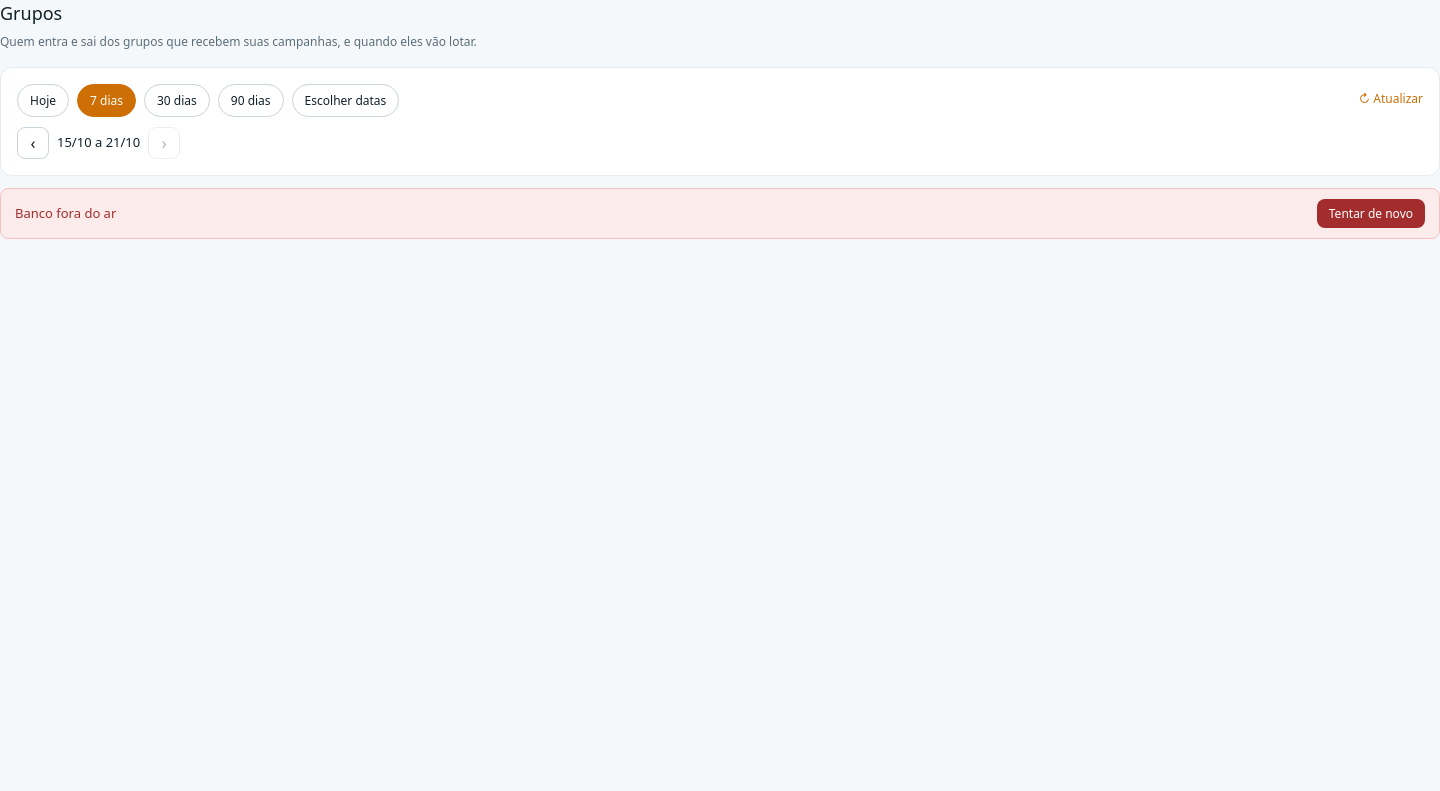
Test: PageGrupos › erro do servidor mostra o motivo com tentar de novo
Expected: the text "Banco fora do ar" is shown, [15,204,116,222]
Step 1. Click the button "Tentar de novo" → point(1371, 214), box [1317,199,1425,228]
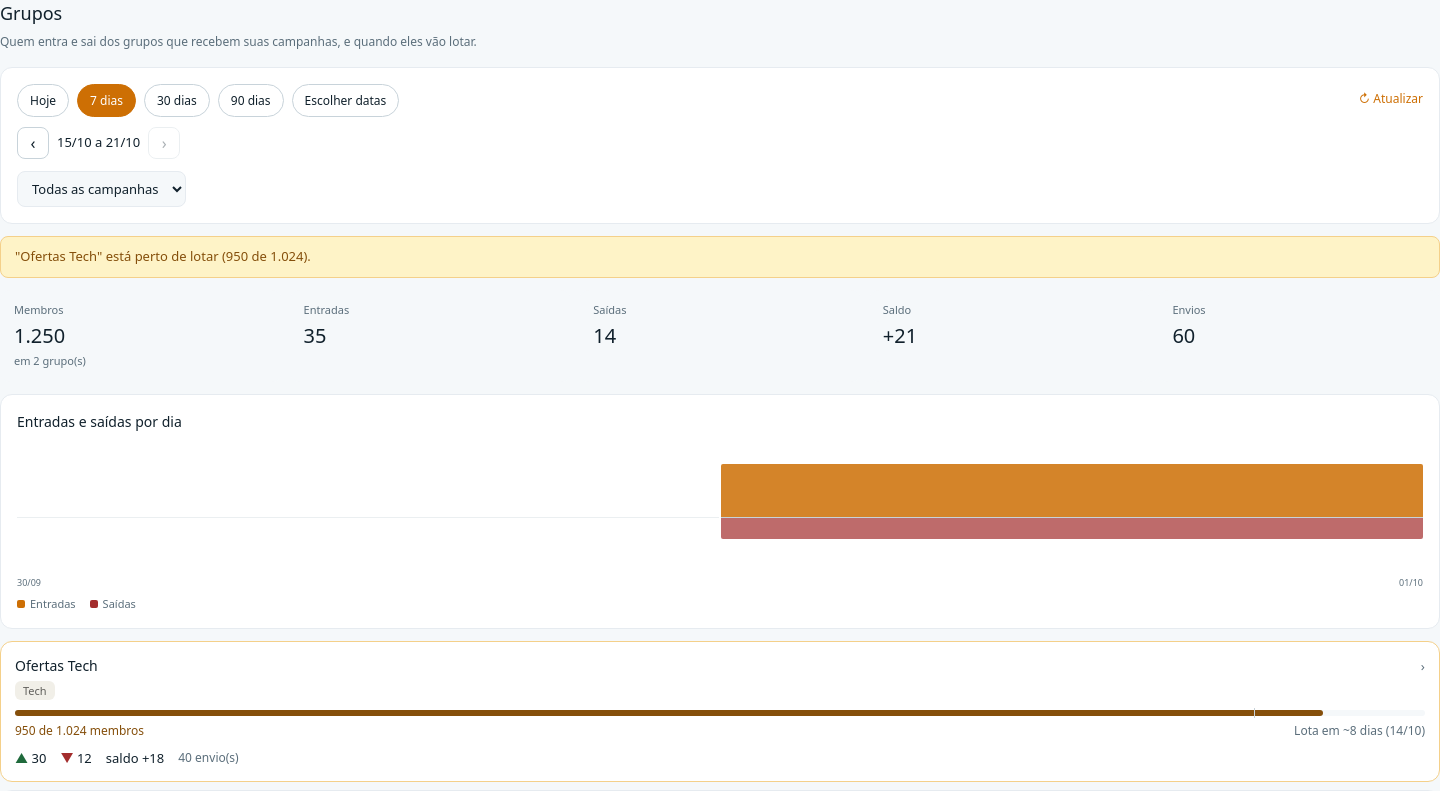
Now the text "Ofertas Tech" is shown, box [15,656,98,675]
